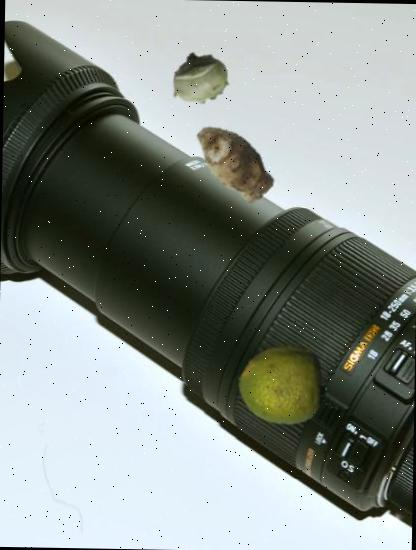Ginger: (186, 114, 281, 210)
Kohlrabi: (167, 48, 229, 110)
Limes: (236, 338, 327, 429)
